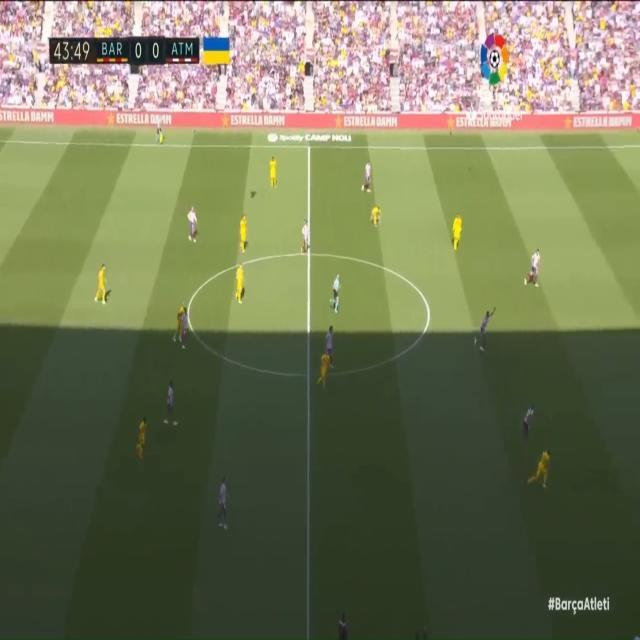ball: (466, 163, 475, 173)
player: (473, 305, 498, 357), (529, 447, 554, 498), (163, 380, 181, 429), (95, 259, 111, 313), (184, 202, 202, 248), (527, 246, 544, 294), (323, 318, 337, 373), (217, 476, 230, 531), (237, 214, 253, 258), (316, 348, 330, 397), (136, 412, 149, 461), (521, 397, 535, 442), (451, 210, 464, 253), (236, 259, 246, 310), (174, 300, 185, 346), (301, 218, 312, 262), (361, 161, 373, 200), (269, 155, 279, 191), (371, 203, 382, 229), (182, 309, 189, 345)
referee: (330, 270, 342, 318), (154, 115, 165, 148)
